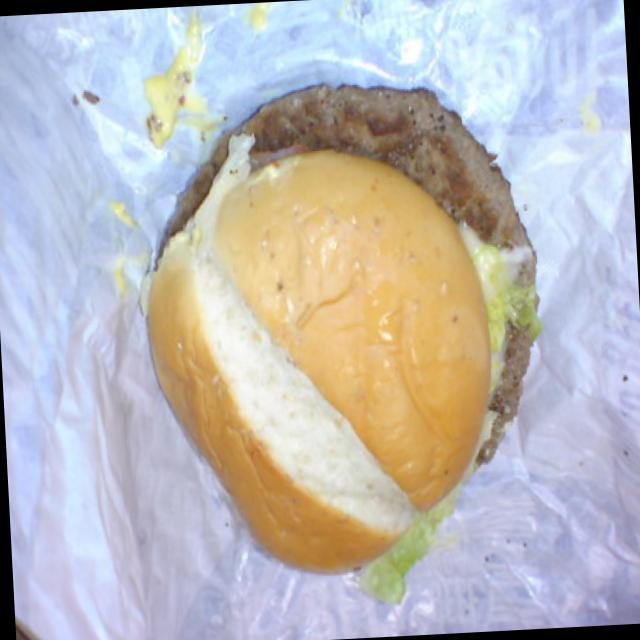Hamburger: (149, 93, 539, 562)
